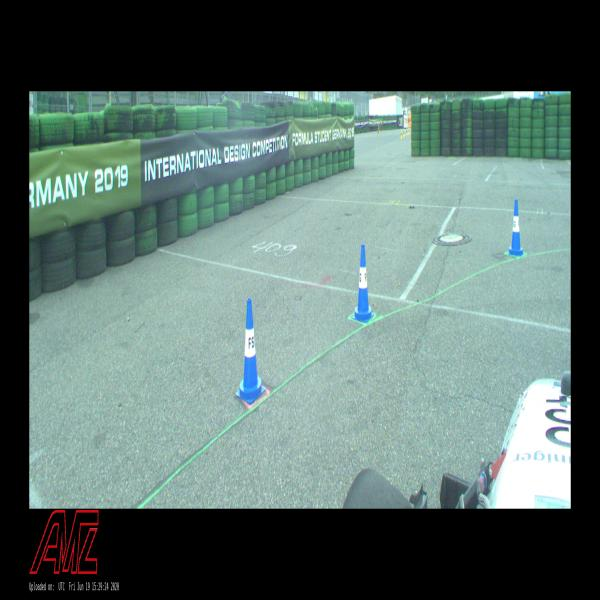blue_cone: (235, 298, 266, 404), (352, 244, 374, 323), (508, 200, 524, 256)
yellow_cone: (400, 130, 403, 139), (403, 128, 405, 137), (406, 128, 408, 136), (408, 127, 409, 135)
